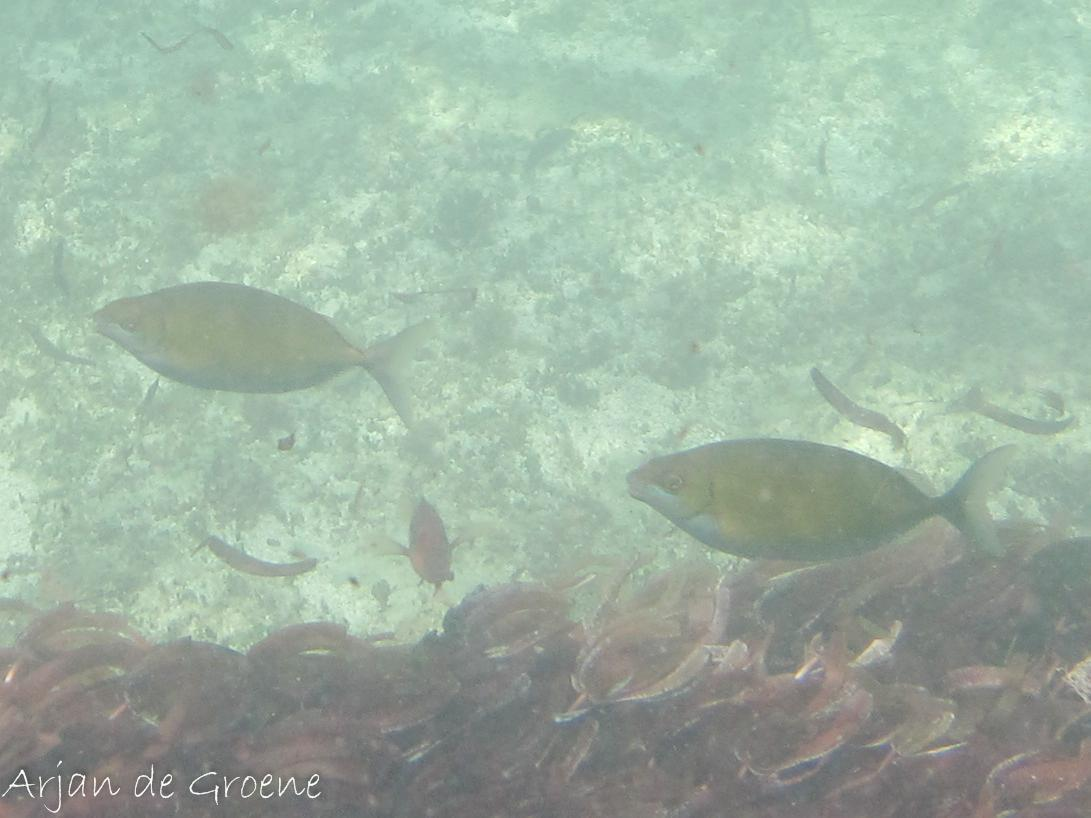Siganus luridus: (625, 423, 1039, 584), (81, 278, 452, 442)
